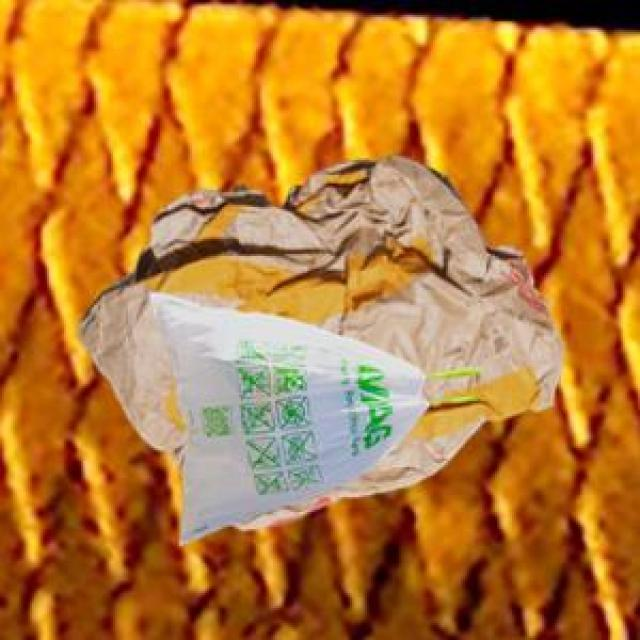paper: (75, 152, 561, 527)
